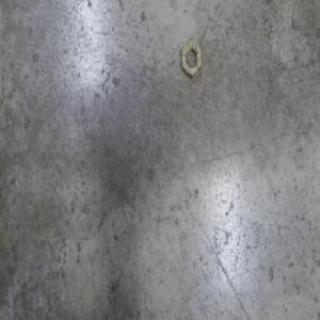Nuttrack_idkeyframe: (180, 34, 202, 76)
